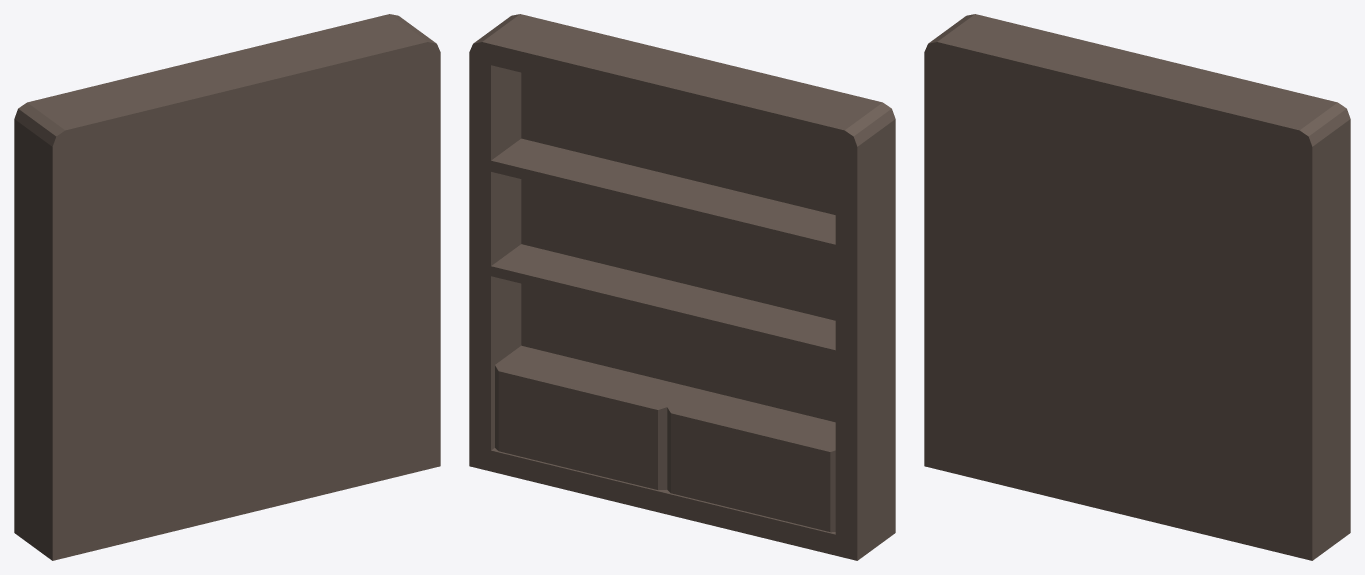
3 views of the same model, side by side, from view 1: azimuth 30°, elevation 25°; view 2: azimuth 150°, elevation 25°; view 3: azimuth 330°, elevation 25° (orthographic).
Parts seen in each view (by area): view 1: botlle_shelving.001; view 2: botlle_shelving.001; view 3: botlle_shelving.001.
Boxes of the visible parts, <box> form: botlle_shelving.001: <box>14,14,440,560</box>; botlle_shelving.001: <box>469,14,895,560</box>; botlle_shelving.001: <box>924,14,1350,560</box>.
Bounding box in the file's own units: 386 × 407 × 65.95.
Materials: 1 (1 with a texture image).
